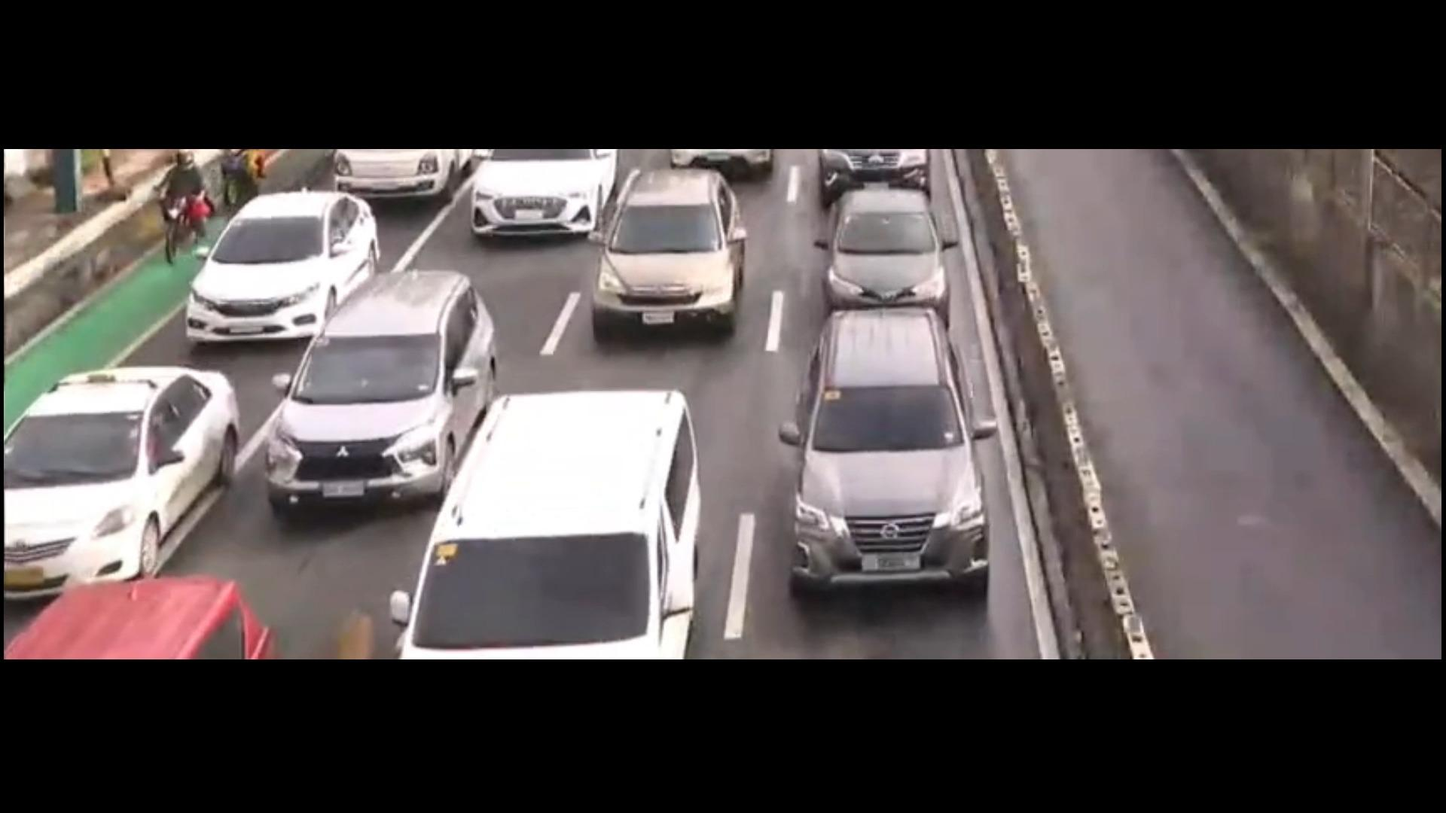Motorcycle: (150, 148, 209, 262)
SUV: (783, 308, 993, 584), (268, 270, 492, 508), (594, 171, 740, 323)
Sedan: (0, 366, 235, 589), (186, 199, 370, 340), (814, 188, 952, 322), (470, 144, 616, 237)
Van: (389, 390, 701, 660)
